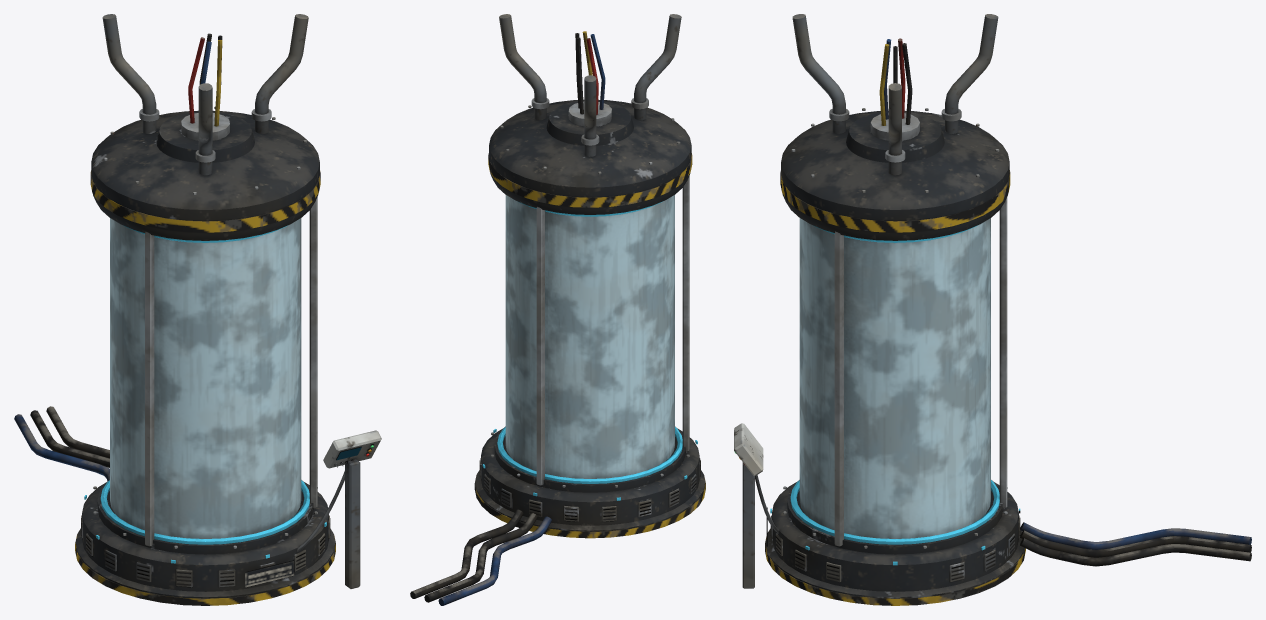
File: ContainmentTank.fbx
The picture shows the model from 3 angles, left to right: view 1: azimuth 30°, elevation 25°; view 2: azimuth 150°, elevation 25°; view 3: azimuth 270°, elevation 25°; orthographic projection. The views are drawn at different scales.
Parts seen in each view (by area): view 1: Frame, Glass, GlowBlue; view 2: Frame, Glass, GlowBlue; view 3: Frame, Glass, GlowBlue.
Boxes of the visible parts, left/top/right/bottom form: Frame: left=14, top=14, right=381, bottom=605; Glass: left=110, top=218, right=301, bottom=538; GlowBlue: left=84, top=225, right=326, bottom=563; Frame: left=410, top=14, right=705, bottom=605; Glass: left=505, top=195, right=674, bottom=478; GlowBlue: left=482, top=201, right=697, bottom=500; Frame: left=734, top=14, right=1251, bottom=605; Glass: left=799, top=218, right=990, bottom=538; GlowBlue: left=770, top=225, right=1020, bottom=565.
Bounding box in the file's own units: 5.07 × 10.97 × 10.06.
1 material, 1 textured.
